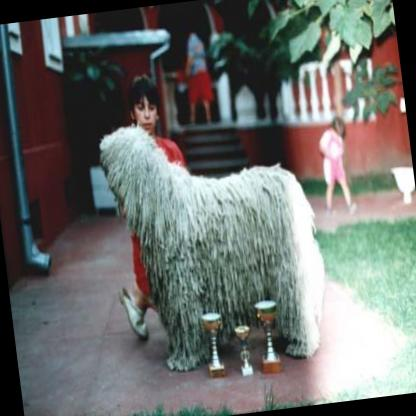komondor: (93, 97, 338, 380)
